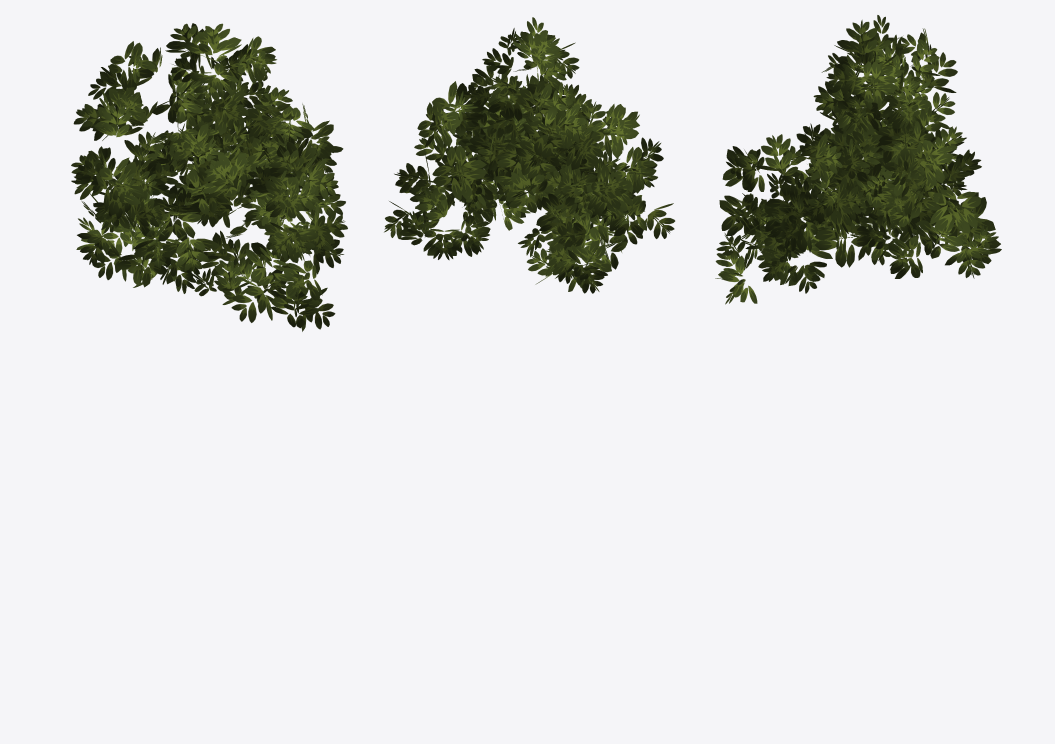
File: swp_Env_Tree_Mangrove_01.glb
3 views of the same model, side by side, from view 1: azimuth 30°, elevation 25°; view 2: azimuth 150°, elevation 25°; view 3: azimuth 270°, elevation 25° (orthographic). The views are drawn at different scales.
Parts seen in each view (by area): view 1: SM_Env_Tree_Mangrove_01_LOD0; view 2: SM_Env_Tree_Mangrove_01_LOD0; view 3: SM_Env_Tree_Mangrove_01_LOD0.
Part boxes in pixels (x1=…): SM_Env_Tree_Mangrove_01_LOD0: x1=71, y1=23, x2=347, y2=331; SM_Env_Tree_Mangrove_01_LOD0: x1=384, y1=17, x2=675, y2=293; SM_Env_Tree_Mangrove_01_LOD0: x1=715, y1=15, x2=1001, y2=304.
Bounding box in the file's own units: 3.42 × 8.25 × 3.62.
1 material, 1 textured.
